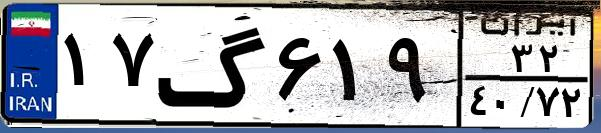0: (495, 70, 520, 125)
1: (330, 28, 385, 110), (57, 26, 110, 100)
2: (560, 70, 590, 125), (537, 27, 568, 80)
3: (508, 27, 537, 80)
4: (470, 70, 495, 125)
6: (270, 28, 330, 110)
7: (110, 28, 156, 98), (535, 70, 560, 125)
9: (385, 28, 445, 110)
گ: (156, 12, 270, 120)
